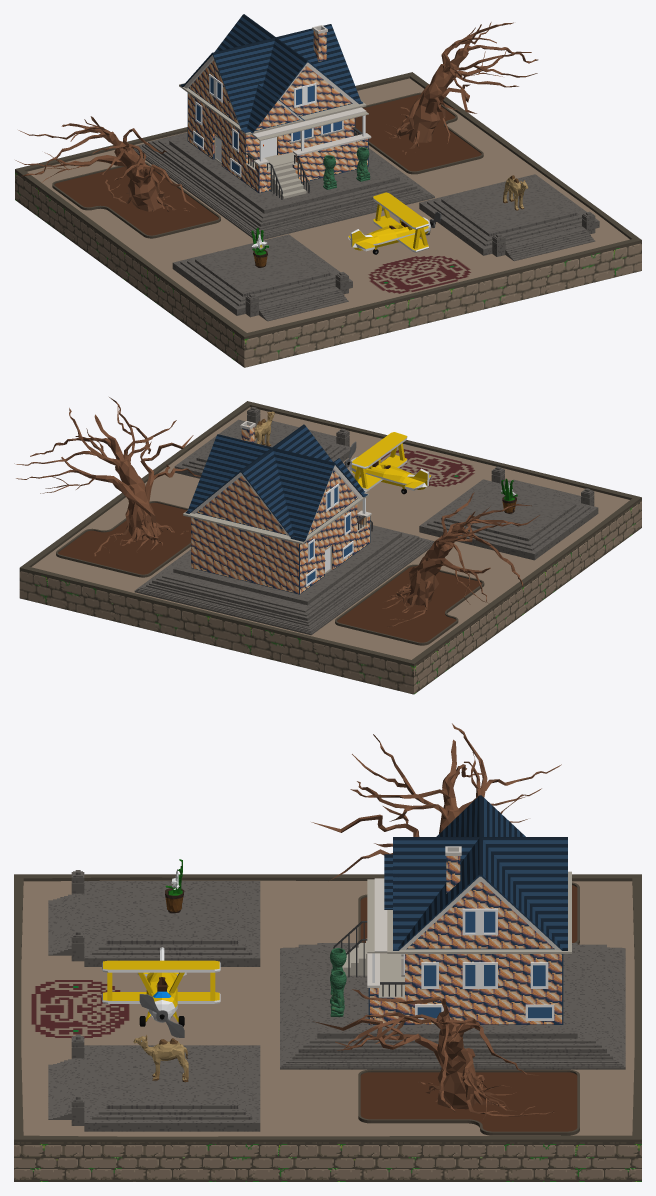
3 views of the same model, one above another, from view 1: azimuth 30°, elevation 25°; view 2: azimuth 150°, elevation 25°; view 3: azimuth 270°, elevation 25° (orthographic). The views are drawn at different scales.
Parts seen in each view (by area): view 1: Cube.011, Cube.430, VEHICLES_AIRPLANE, ANIMAL_CAMELLO; view 2: Cube.011, Cube.430, VEHICLES_AIRPLANE, ANIMAL_CAMELLO; view 3: Cube.011, Cube.430, VEHICLES_AIRPLANE, ANIMAL_CAMELLO.
Boxes of the visible parts, left/top/right/bottom form: Cube.011: left=15, top=22, right=641, bottom=367; Cube.430: left=179, top=14, right=371, bottom=199; VEHICLES_AIRPLANE: left=348, top=192, right=441, bottom=254; ANIMAL_CAMELLO: left=503, top=175, right=527, bottom=210; Cube.011: left=14, top=397, right=641, bottom=694; Cube.430: left=183, top=421, right=372, bottom=594; VEHICLES_AIRPLANE: left=344, top=432, right=431, bottom=494; ANIMAL_CAMELLO: left=254, top=411, right=274, bottom=446; Cube.011: left=14, top=723, right=641, bottom=1181; Cube.430: left=333, top=795, right=571, bottom=1024; VEHICLES_AIRPLANE: left=102, top=947, right=220, bottom=1037; ANIMAL_CAMELLO: left=133, top=1035, right=188, bottom=1082.
Size of the model in its own units: 5099 by 1638 by 4000.
43 materials, 6 textured.
